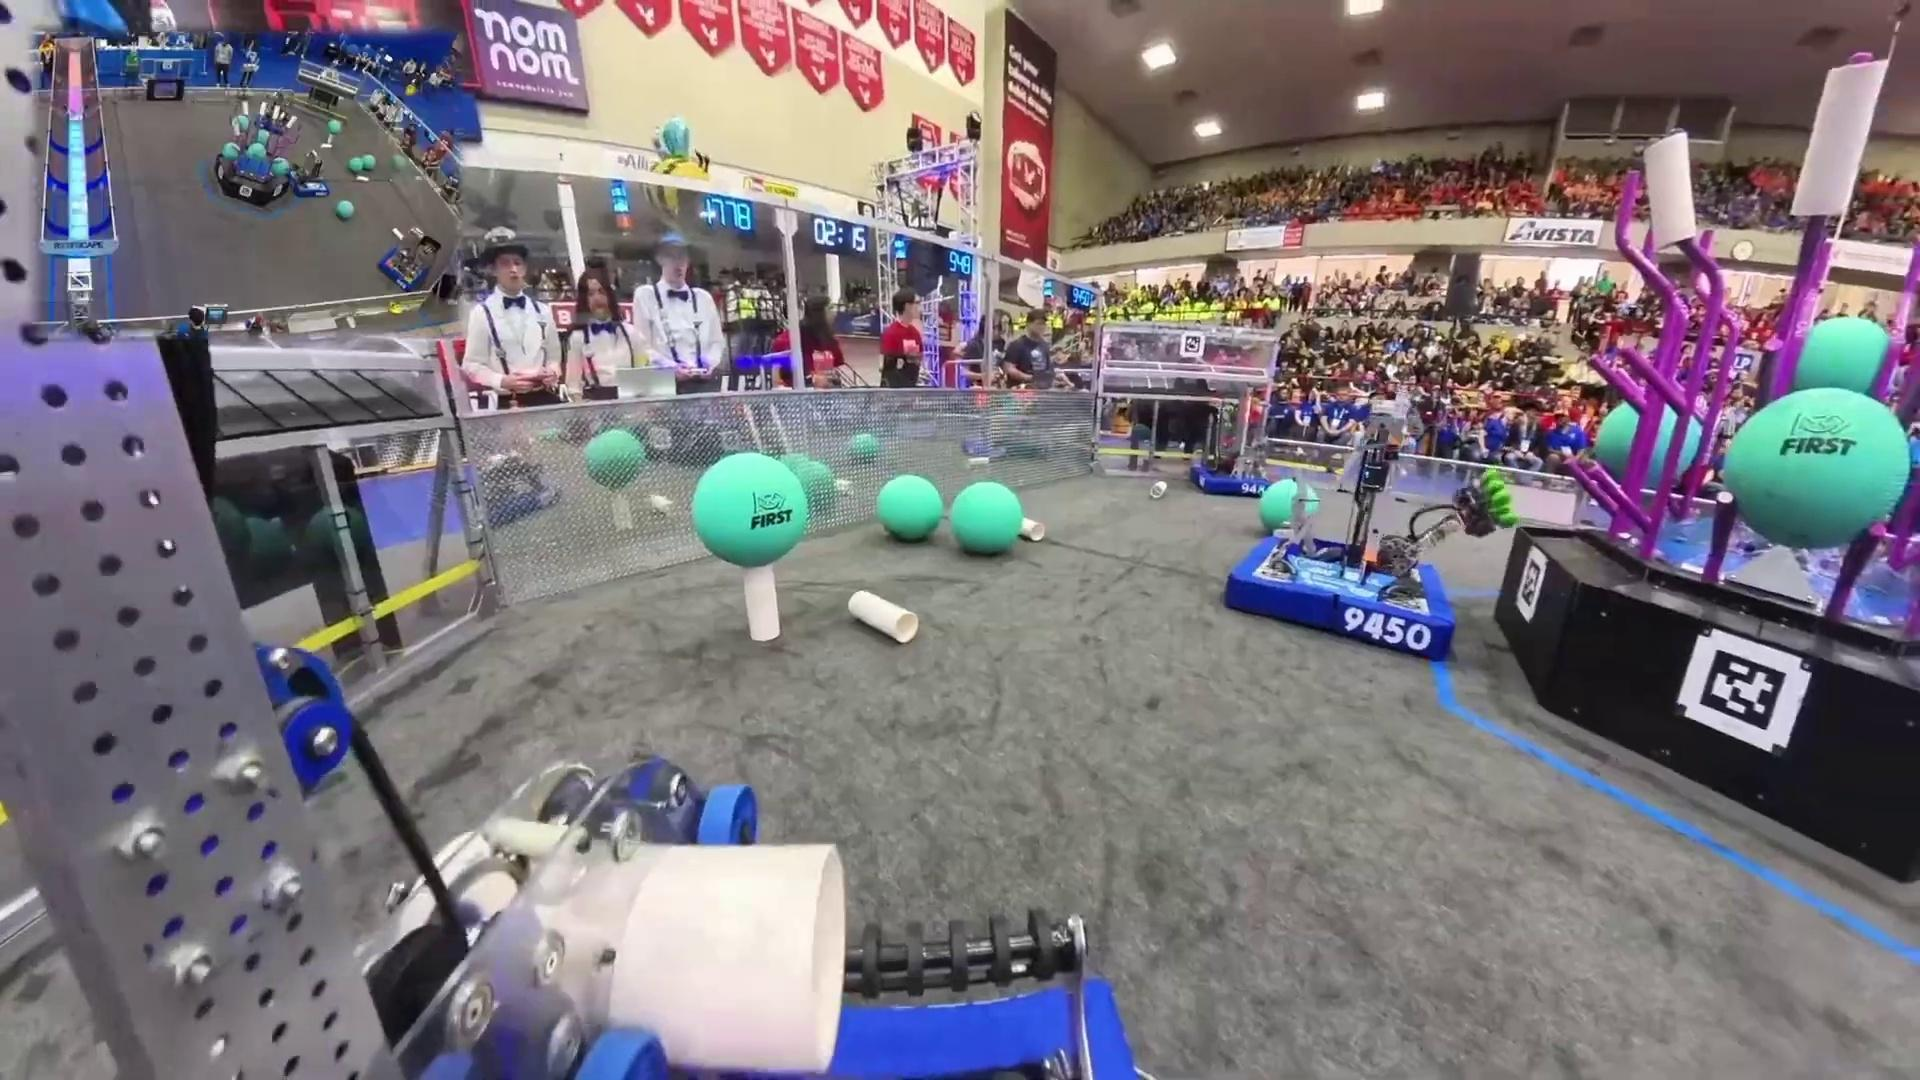robot: (1225, 377, 1458, 662), (1189, 394, 1280, 496), (377, 228, 439, 293), (290, 150, 330, 202)
